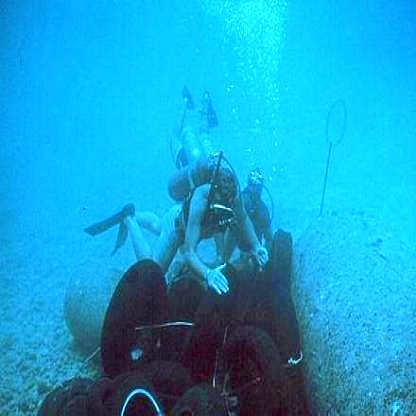tire: (218, 322, 301, 416), (96, 258, 166, 357), (193, 264, 233, 368), (99, 363, 171, 416), (156, 271, 191, 353), (42, 369, 102, 416), (264, 222, 291, 308), (174, 380, 225, 416)
